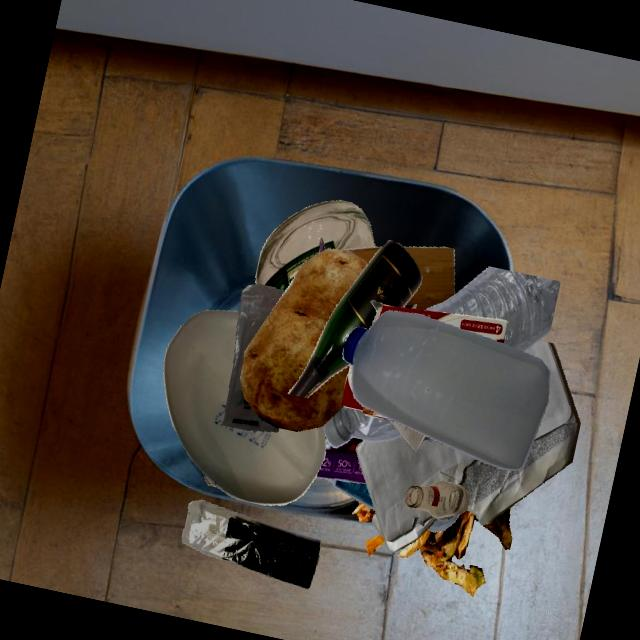biowaste: (240, 248, 366, 431), (397, 541, 485, 596), (372, 517, 455, 541), (482, 507, 511, 549)
cardboard: (319, 250, 441, 458), (370, 300, 507, 344), (341, 364, 400, 423)
glass: (287, 240, 421, 398), (255, 200, 374, 290), (405, 480, 468, 517), (203, 475, 216, 486), (410, 303, 416, 309)
paper: (355, 340, 580, 542), (371, 513, 436, 552), (390, 421, 441, 451)
plastic: (342, 310, 549, 470), (163, 310, 325, 505), (182, 500, 320, 589), (425, 266, 560, 352), (222, 284, 285, 432), (326, 439, 436, 518), (322, 405, 402, 447), (324, 478, 374, 510)
